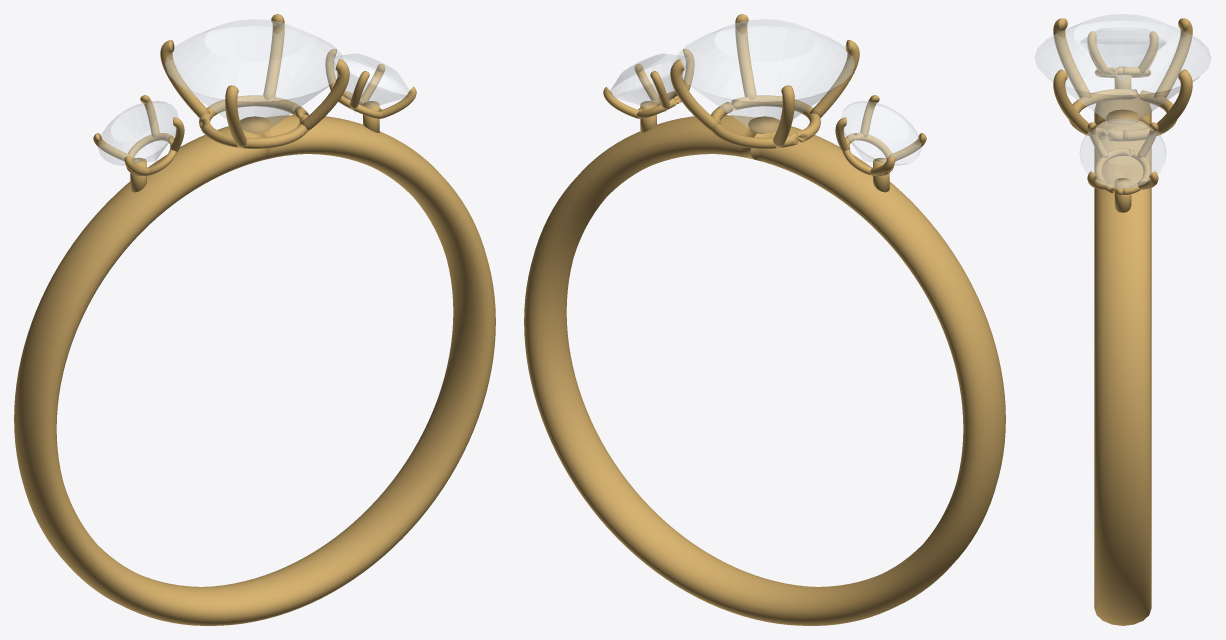
Rendered from layouts-three-stone.glb.
The picture shows the model from 3 angles, left to right: view 1: azimuth 30°, elevation 25°; view 2: azimuth 150°, elevation 25°; view 3: azimuth 270°, elevation 25°; orthographic projection.
Parts seen in each view (by area): view 1: Band, Gem, Gem.001, Lower gallery, Gem.002, Prong.001, Prong, Prong.003, Prong.002, Lower gallery.001; view 2: Band, Gem, Gem.001, Lower gallery, Gem.002, Prong.002, Prong.003, Prong, Prong.001, Lower gallery.001; view 3: Band, Gem, Gem.002, Gem.001, Lower gallery, Prong.001, Prong.002, Lower gallery.002, Prong, Prong.003, Side head support.001, Lower gallery.001 (+5 smaller).
Boxes of the visible parts, x1,y1,x2,y2 form: Band: (14, 115, 495, 625); Gem: (165, 19, 343, 132); Gem.001: (98, 101, 178, 165); Lower gallery: (199, 95, 308, 148); Gem.002: (331, 53, 409, 111); Prong.001: (160, 40, 210, 117); Prong: (263, 14, 284, 99); Prong.003: (299, 59, 349, 131); Prong.002: (225, 85, 246, 148); Lower gallery.001: (125, 133, 176, 176); Band: (524, 115, 1005, 625); Gem: (676, 19, 854, 132); Gem.001: (841, 101, 921, 165); Lower gallery: (711, 95, 820, 148); Gem.002: (610, 53, 688, 111); Prong.002: (809, 40, 859, 117); Prong.003: (735, 14, 756, 99); Prong: (670, 59, 720, 131); Prong.001: (773, 85, 794, 148); Lower gallery.001: (843, 133, 894, 176); Band: (1094, 97, 1151, 625); Gem: (1035, 14, 1210, 121); Gem.002: (1079, 118, 1166, 188); Gem.001: (1080, 28, 1165, 80); Lower gallery: (1069, 88, 1176, 141); Prong.001: (1154, 18, 1192, 98); Prong.002: (1053, 18, 1091, 98); Lower gallery.002: (1094, 148, 1151, 194); Prong: (1157, 69, 1192, 135); Prong.003: (1053, 69, 1088, 135); Side head support.001: (1114, 178, 1131, 212); Lower gallery.001: (1095, 67, 1150, 77).
Size of the model in its own units: 19.6 by 22.94 by 6.5.
